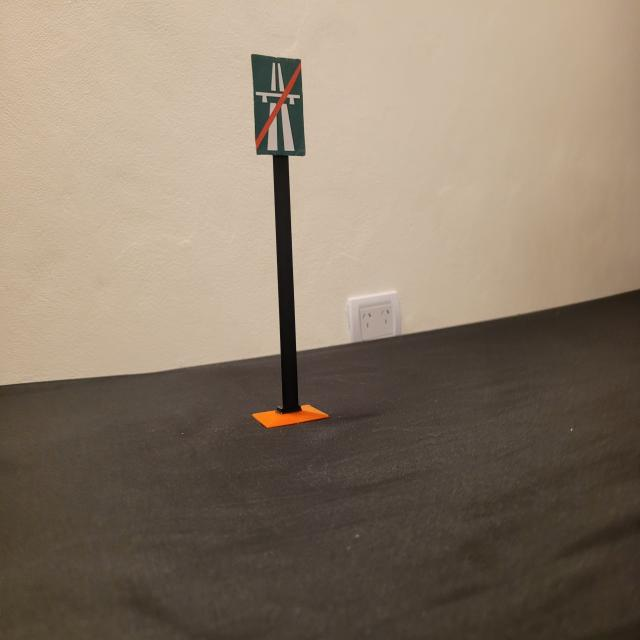highway_exit: (249, 52, 308, 157)
